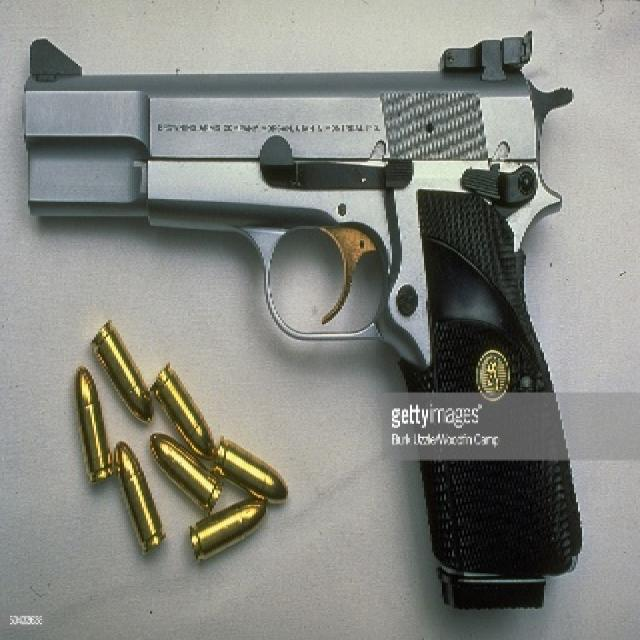handgun: (19, 35, 593, 580)
